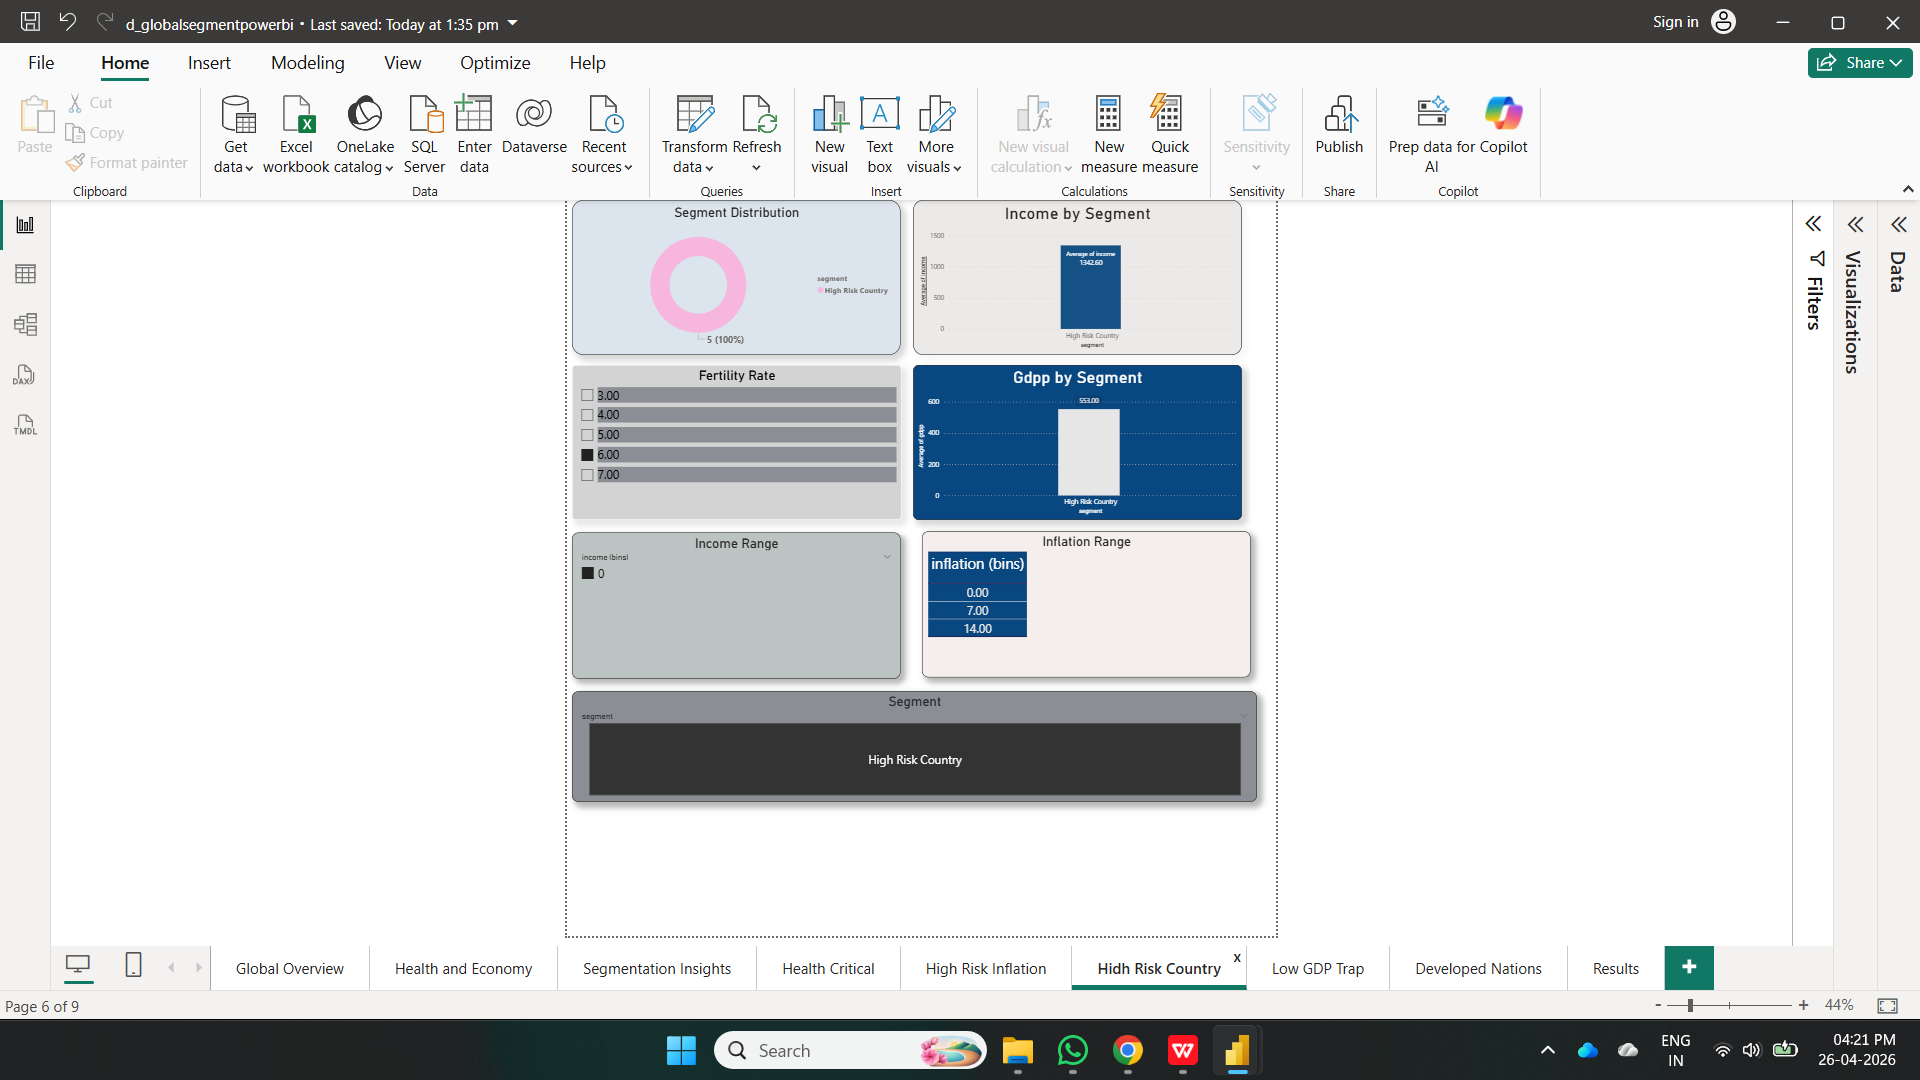

The dashboard page shown, as its layout file describes it:
{"tool":"powerbi","page":{"name":"Hidh Risk Country","canvas":[1280,1330],"ordinal":5},"visuals":[{"type":"donutChart","title":"Segment Distribution","fields":{"Category":["country_clean.segment"],"Y":["CountNonNull(country_clean.country)"]},"box":[10,0,593.8,280],"z":0},{"type":"clusteredColumnChart","title":"Income by Segment","fields":{"Category":["country_clean.segment"],"Y":["Avg(country_clean.income)"]},"box":[626.2,0,593.8,280],"z":1000},{"type":"slicer","title":"Fertility Rate","fields":{"Values":["country_clean.total_fer (bins)"]},"box":[8.8,298.8,595,280],"z":2000},{"type":"clusteredColumnChart","title":"Gdpp by Segment","fields":{"Category":["country_clean.segment"],"Y":["Avg(country_clean.gdpp)"]},"box":[626.2,298.8,593.8,280],"z":3000},{"type":"slicer","title":"Income Range","fields":{"Values":["country_clean.income (bins)"]},"box":[10,600,593.8,263.8],"z":4000},{"type":"tableEx","title":"Inflation Range","fields":{"Values":["country_clean.inflation (bins)"]},"box":[641.2,597.5,593.8,263.8],"z":5000},{"type":"slicer","title":"Segment","fields":{"Values":["country_clean.segment"]},"box":[10,888.8,1237.5,200],"z":6000}]}

Visuals, with their boxes on the page's 1280x1330 design canvas (x1, y1, x2, y2). These are canvas units, not pixel positions in the 1920x1080 screenshot, which may show the page scaled, cropped or inside an application window:
"Segment Distribution" donutChart: [10,0,604,280]
"Income by Segment" clusteredColumnChart: [626,0,1220,280]
"Fertility Rate" slicer: [9,299,604,579]
"Gdpp by Segment" clusteredColumnChart: [626,299,1220,579]
"Income Range" slicer: [10,600,604,864]
"Inflation Range" tableEx: [641,598,1235,861]
"Segment" slicer: [10,889,1248,1089]
